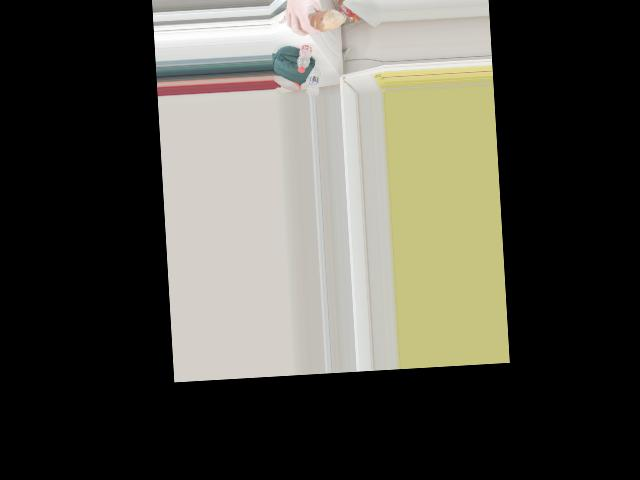sweet_potato: (300, 5, 334, 31)
